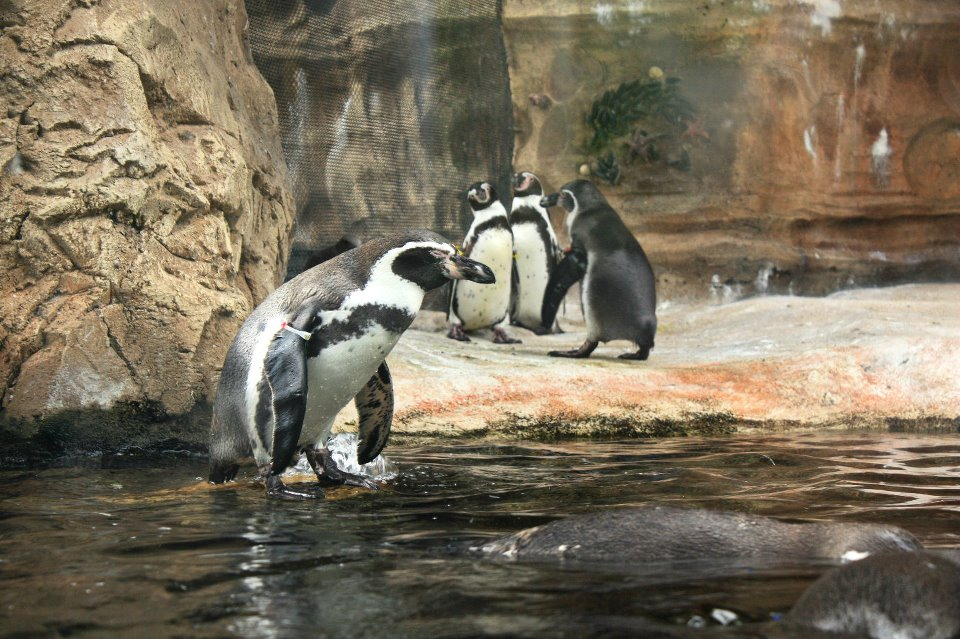penguin: (209, 220, 499, 499)
